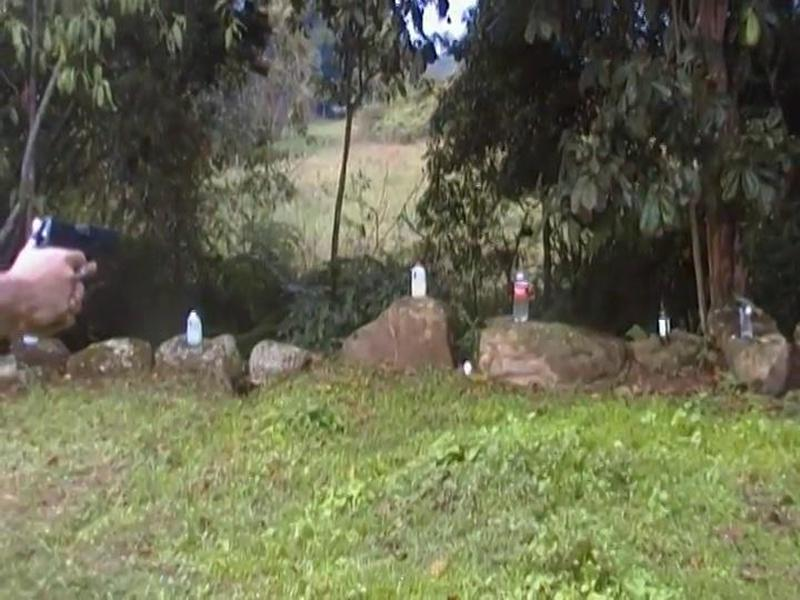Pistola: (15, 200, 153, 285)
